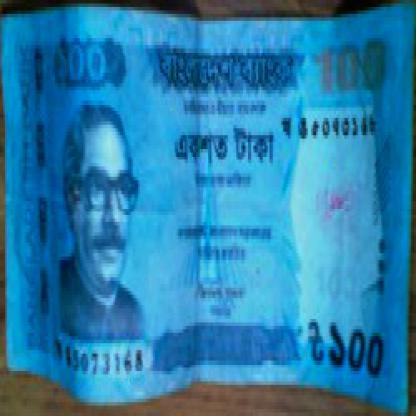one hundred taka: (310, 38, 396, 97), (326, 312, 386, 385), (53, 38, 112, 87)
